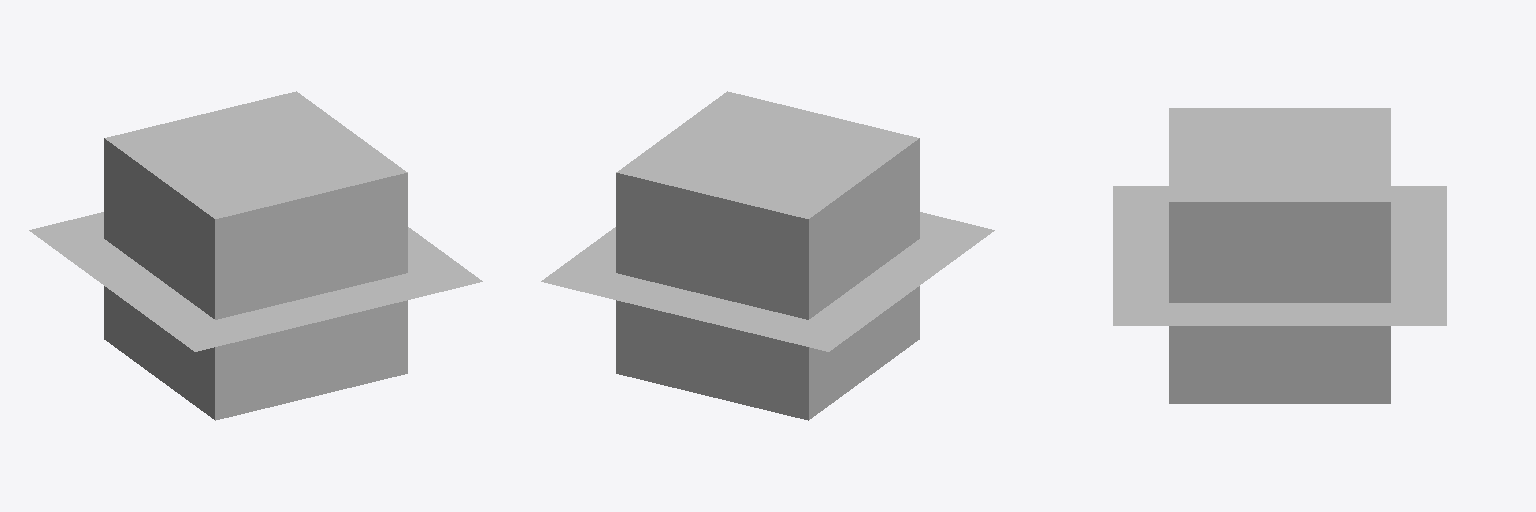
File: sceneWithCube.obj
3 views of the same model, side by side, from view 1: azimuth 30°, elevation 25°; view 2: azimuth 150°, elevation 25°; view 3: azimuth 270°, elevation 25° (orthographic).
Parts seen in each view (by area): view 1: Cube_Cube.002, Plane_Plane.002; view 2: Cube_Cube.002, Plane_Plane.002; view 3: Cube_Cube.002, Plane_Plane.002.
Boxes of the visible parts, <box> form: Cube_Cube.002: <box>104,91,407,420</box>; Plane_Plane.002: <box>29,212,482,351</box>; Cube_Cube.002: <box>616,91,919,420</box>; Plane_Plane.002: <box>541,212,994,351</box>; Cube_Cube.002: <box>1169,108,1390,403</box>; Plane_Plane.002: <box>1113,186,1446,325</box>.
Bounding box in the file's own units: 3 × 2 × 3.